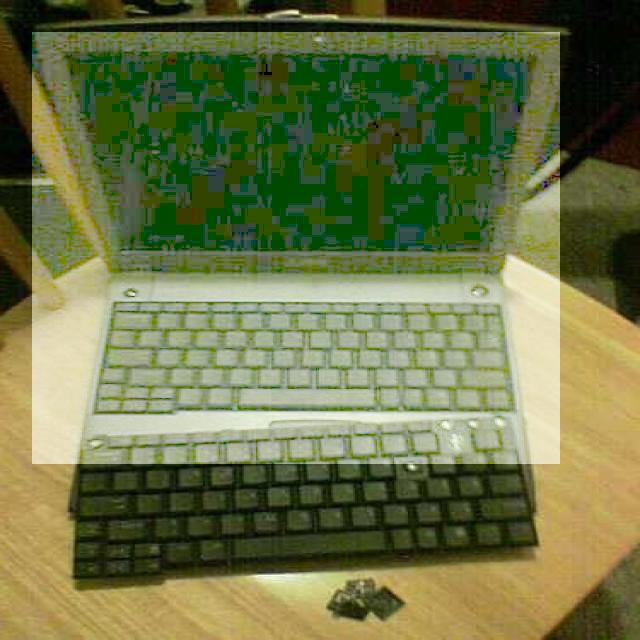-keyboard-: (32, 32, 560, 464)
